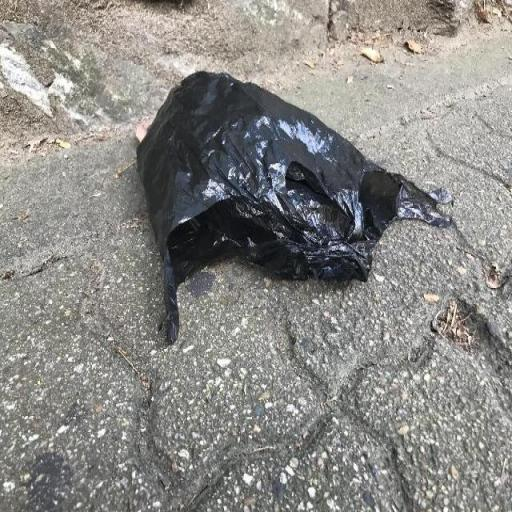plastic-bag: (133, 68, 457, 351)
